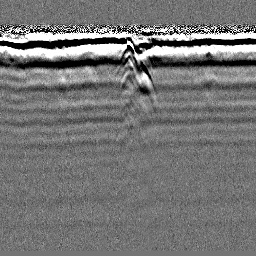cavity: (117, 41, 140, 69)
